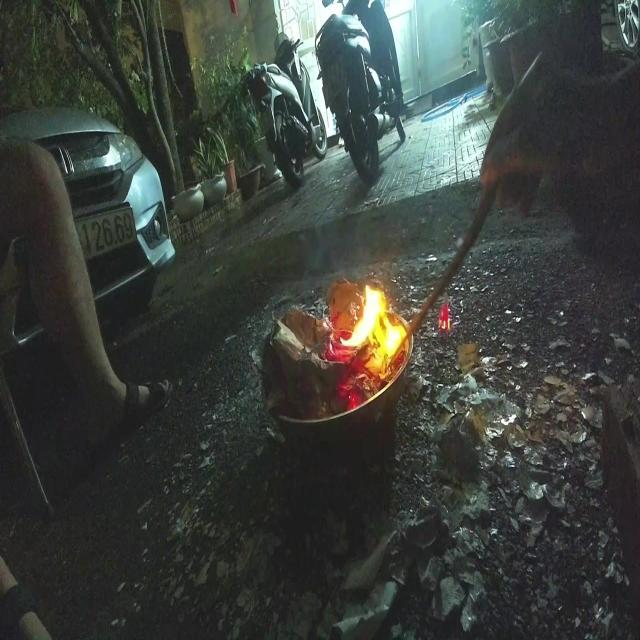Fire: (324, 278, 406, 404)
